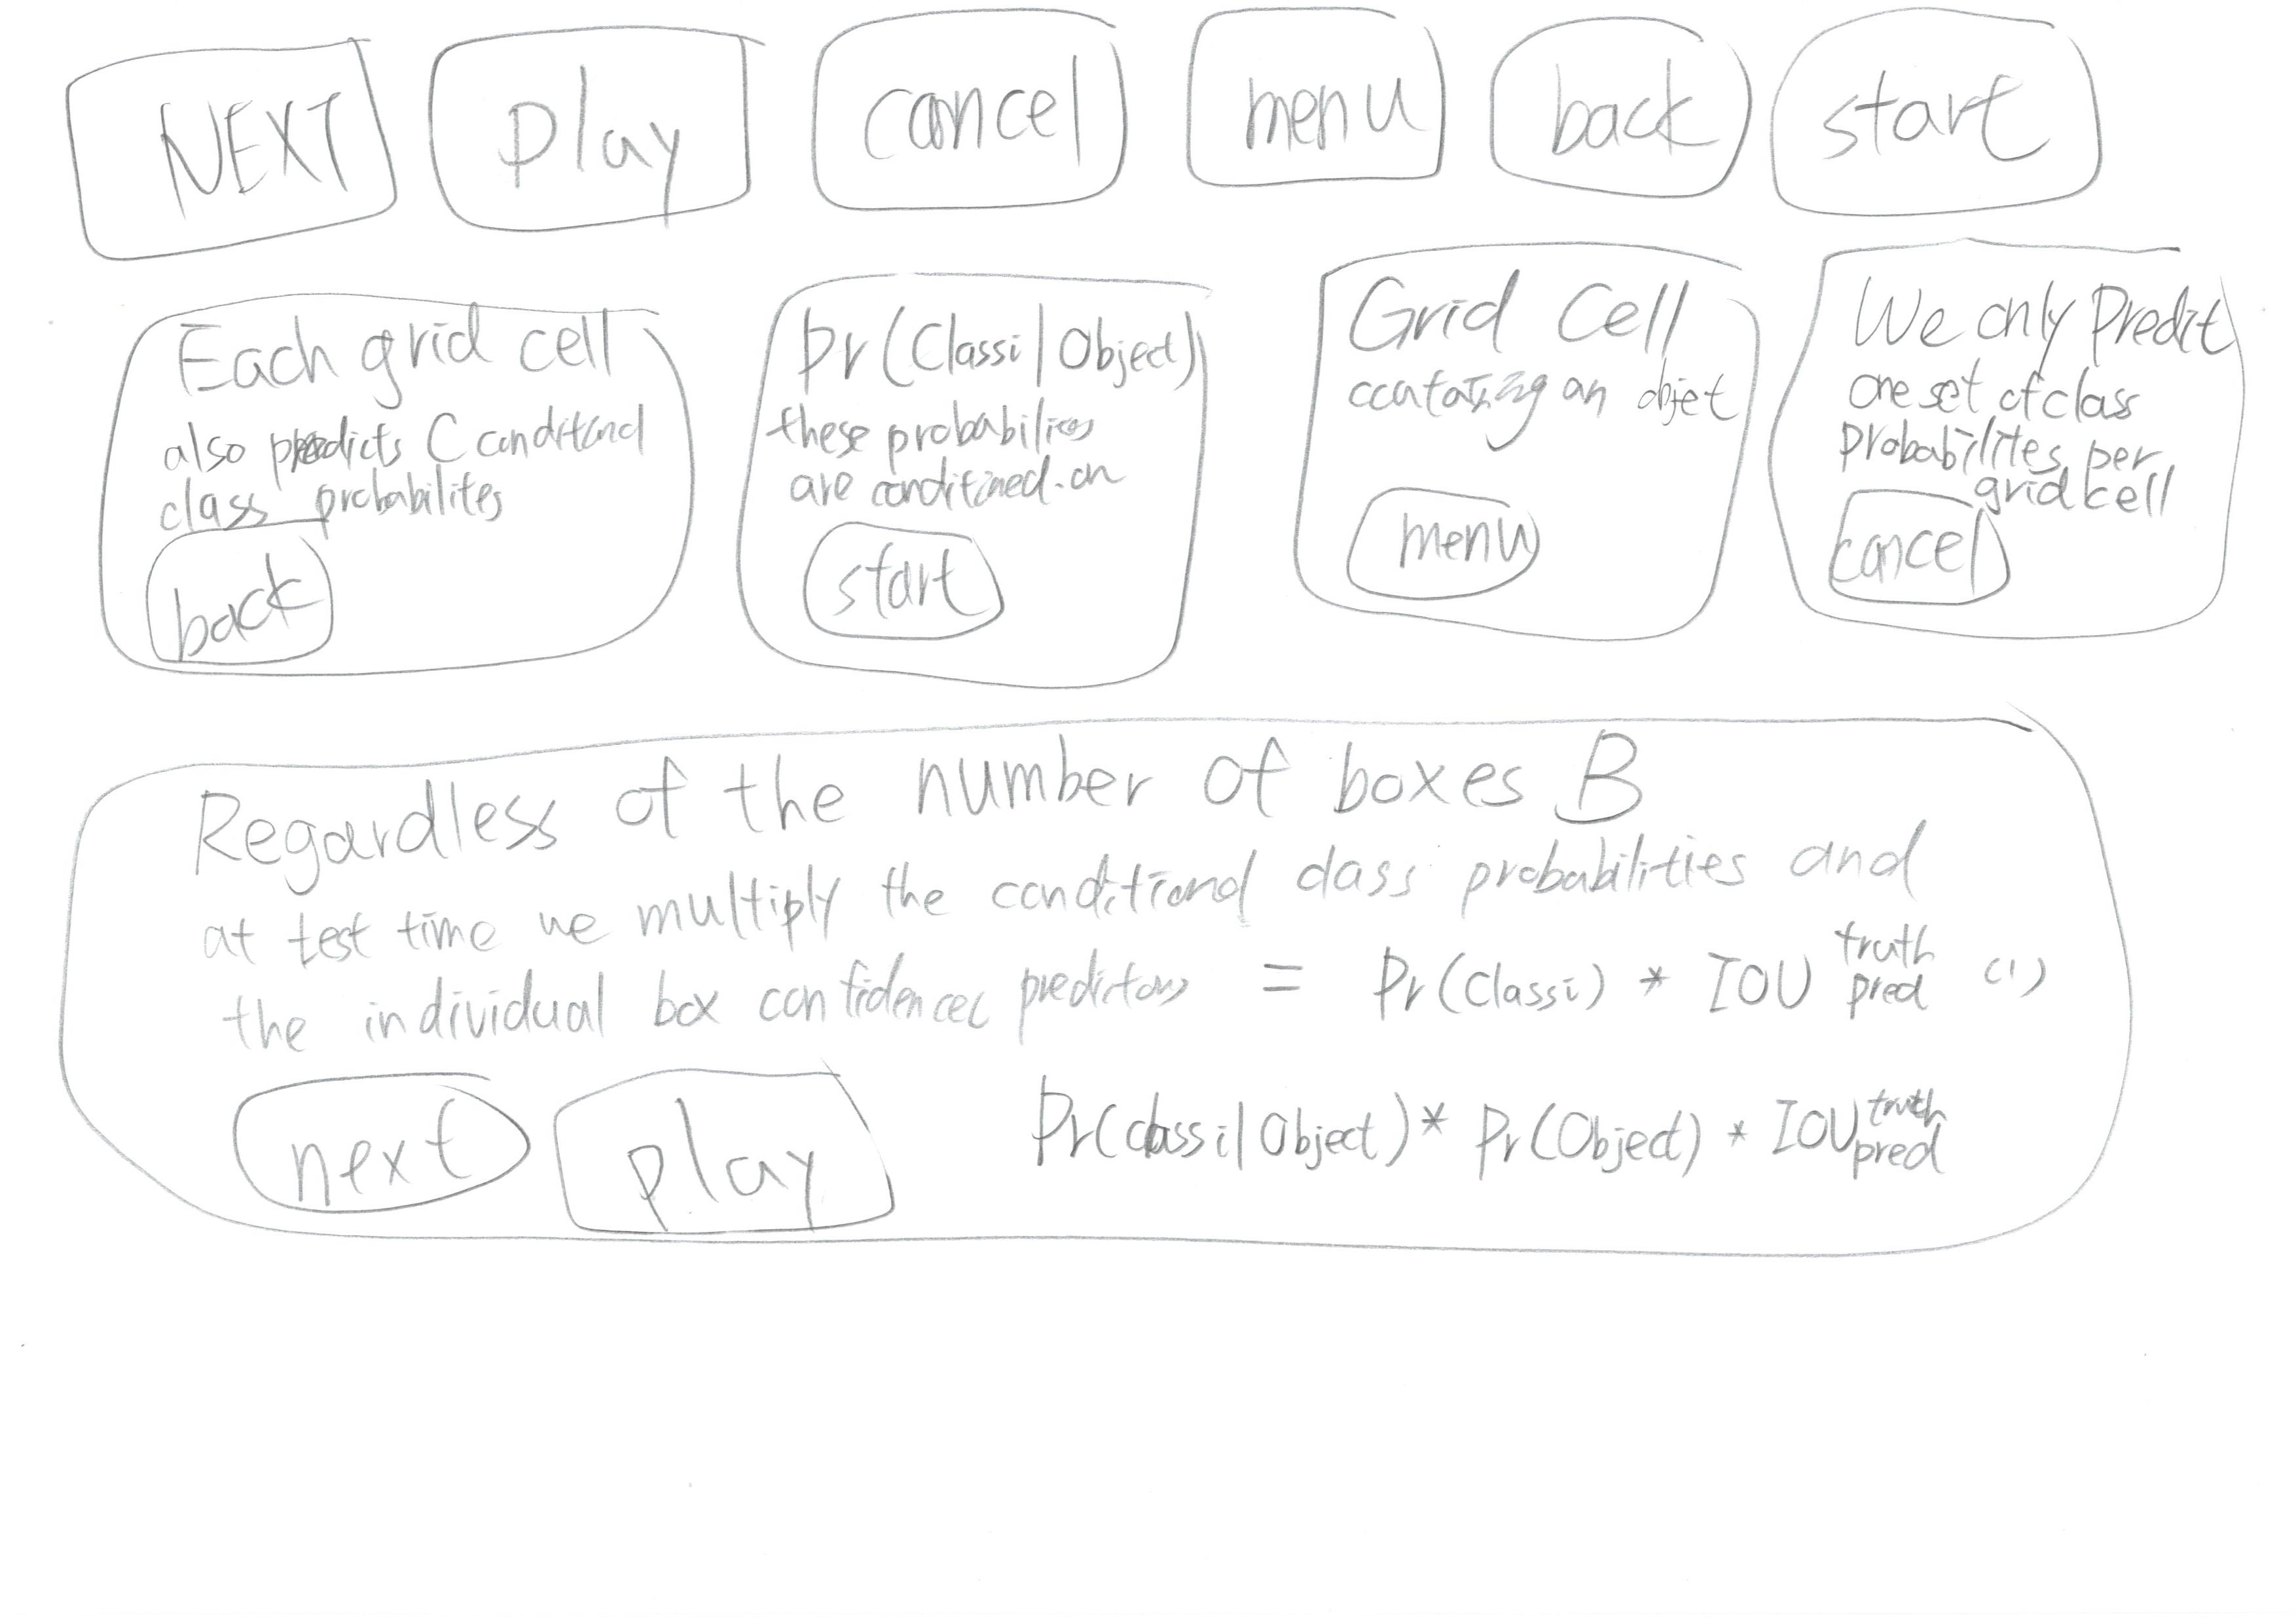back: (1475, 9, 1758, 218), (128, 522, 364, 678)
cancel: (800, 2, 1155, 236), (1820, 468, 2025, 626)
menu: (1153, 0, 1471, 218), (1326, 468, 1598, 605)
next: (42, 12, 418, 271), (202, 1051, 552, 1244)
play: (403, 4, 793, 262), (534, 1046, 923, 1244)
quadruple: (67, 278, 726, 701), (716, 255, 1257, 715), (1246, 218, 1786, 678), (1746, 218, 2285, 678)
row: (7, 705, 2296, 1381), (7, 225, 2296, 719), (7, 0, 2296, 262)
single: (40, 708, 2201, 1322)
small-title: (195, 738, 1705, 884), (788, 283, 1183, 394), (162, 320, 615, 401), (1832, 283, 2245, 369), (1326, 269, 1704, 344)
start: (1755, 0, 2131, 225), (782, 510, 1037, 668)
text: (165, 865, 1994, 1048), (985, 933, 2048, 1188), (141, 410, 654, 529), (1825, 360, 2199, 515), (779, 402, 1108, 513), (1338, 369, 1730, 443)
